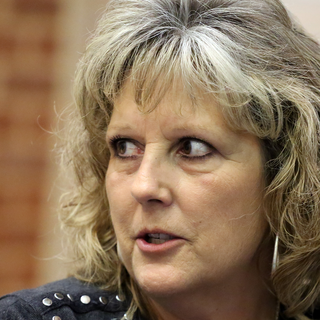eye: (168, 133, 219, 162), (107, 132, 145, 160)
